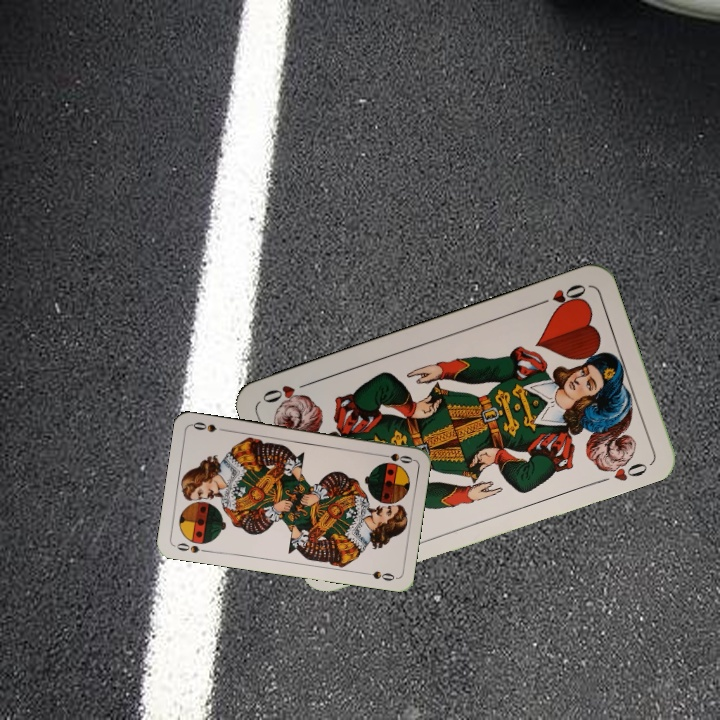HO: (533, 280, 589, 311)
SO: (375, 449, 415, 466), (171, 539, 211, 556)
